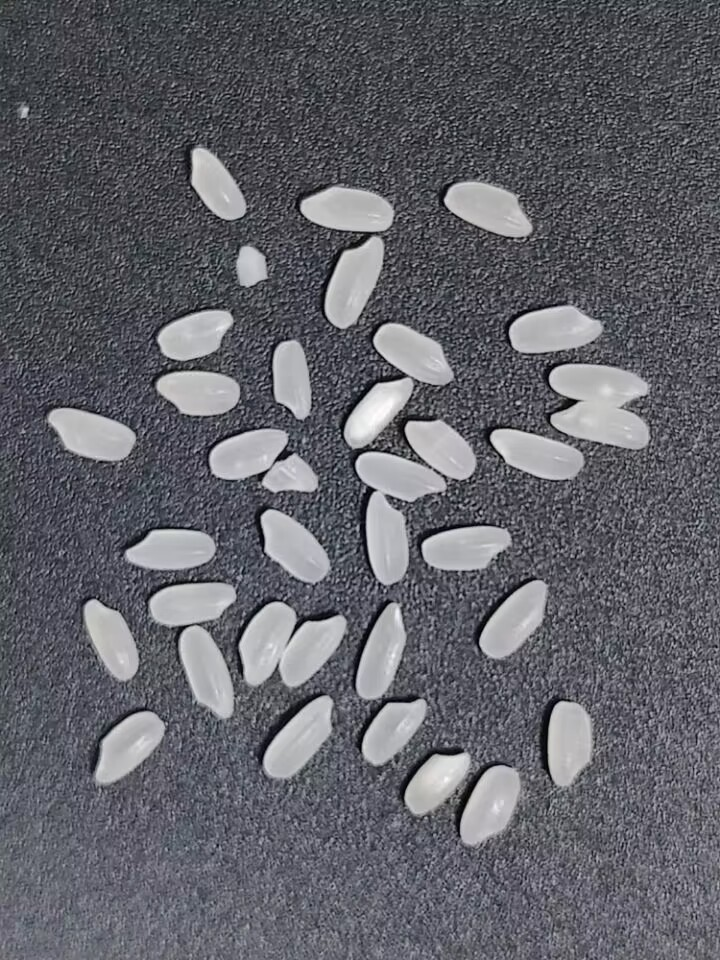broken: (258, 454, 324, 497), (226, 240, 276, 289)
rice: (256, 694, 339, 790), (320, 233, 392, 333), (252, 505, 333, 589), (86, 708, 167, 792), (483, 422, 589, 485), (170, 626, 236, 727), (45, 402, 144, 467), (455, 762, 525, 853), (437, 180, 539, 242), (478, 575, 555, 657), (78, 594, 145, 687), (547, 400, 660, 455), (340, 370, 417, 450), (350, 598, 409, 702), (357, 488, 417, 588), (274, 614, 350, 691), (502, 302, 608, 357), (370, 322, 458, 386), (420, 520, 516, 578), (401, 413, 477, 486), (235, 600, 298, 688), (291, 181, 399, 232), (183, 145, 252, 224), (351, 448, 450, 503), (545, 696, 601, 791), (398, 750, 475, 819), (117, 524, 219, 576), (547, 357, 649, 408), (358, 696, 429, 769), (266, 336, 320, 428), (206, 423, 289, 482), (152, 369, 244, 419), (154, 306, 236, 362), (148, 582, 237, 631)
